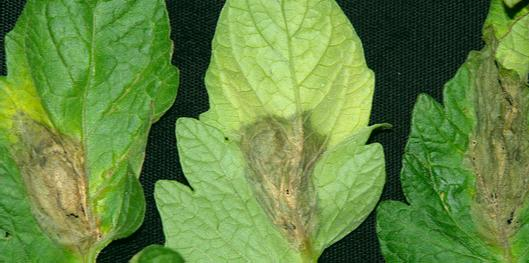Tomato mold leaf: (155, 0, 381, 263), (0, 0, 179, 263), (392, 0, 529, 263)
